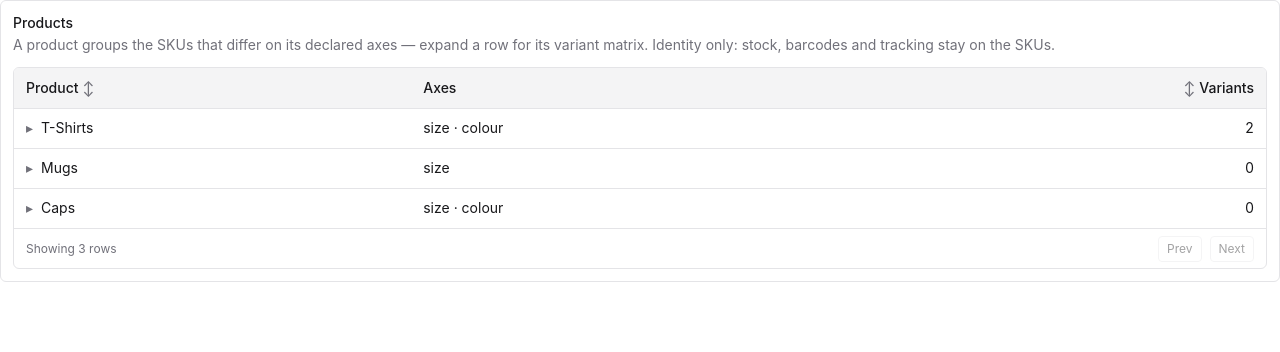
Test: ProductsCard: the variant matrix (story 11-6) › a role without sku.edit reads everything and is offered no mutating affordance
The image size is (1280, 352).
Click the button "▸ T-Shirts" at (60, 128), box [26,118,94,138]
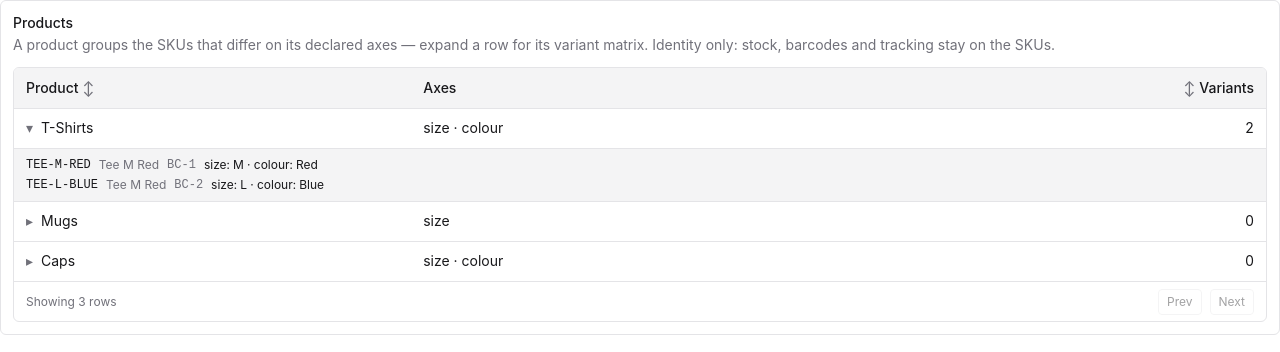
Expected: the text "TEE-M-RED" is shown, [26,156,91,172]
Expected: the text "size: M · colour: Red" is shown, [204,156,318,172]
